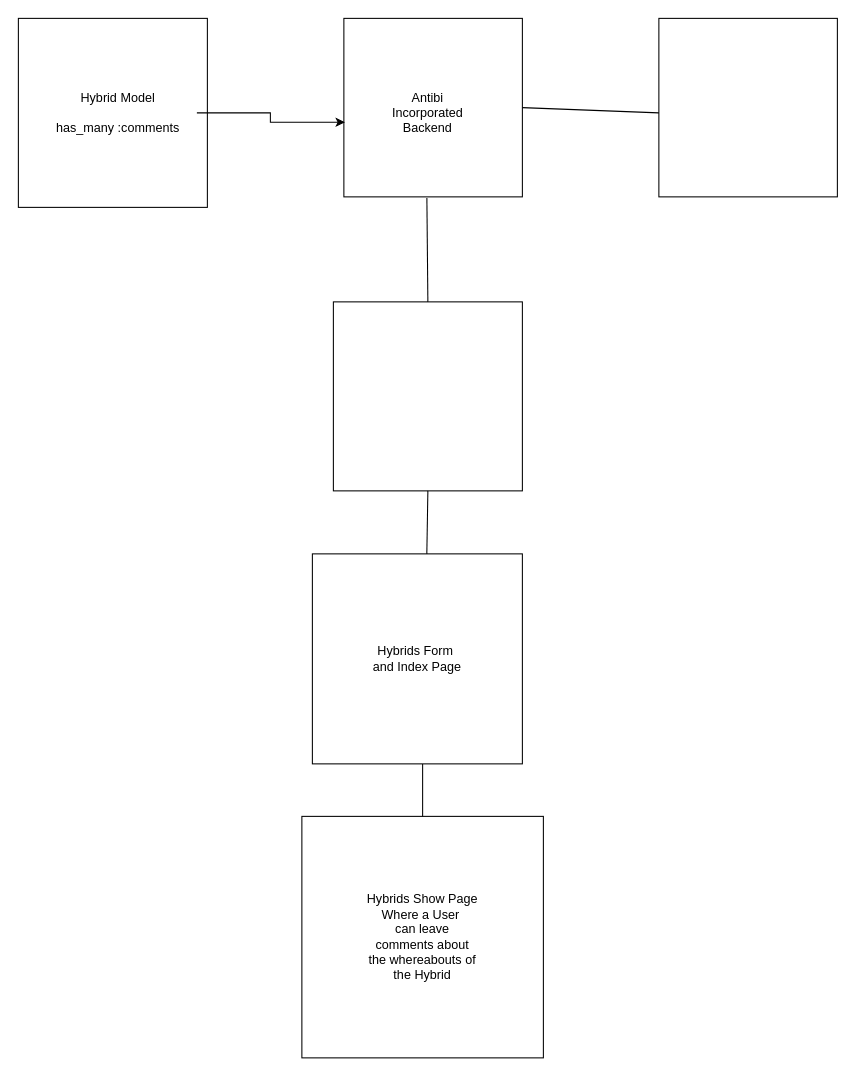
The diagram is 866 pixels wide and 1076 high, and some of its shapes have lost their labels. Each missing label, with the centre of its shape:
"Antibi Incorporated Frontend" goes at (x=427, y=396).
"Comment Model belongs_to :hybrid" goes at (x=747, y=107).
